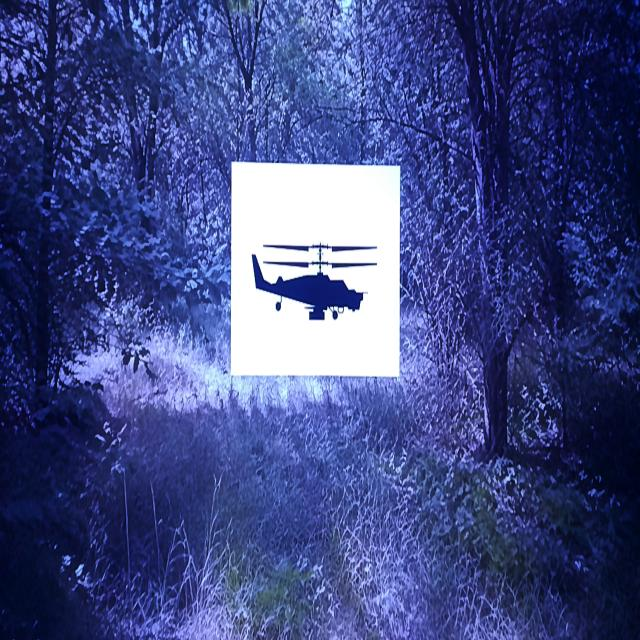Ka-52 Enemy: (252, 244, 376, 319)
